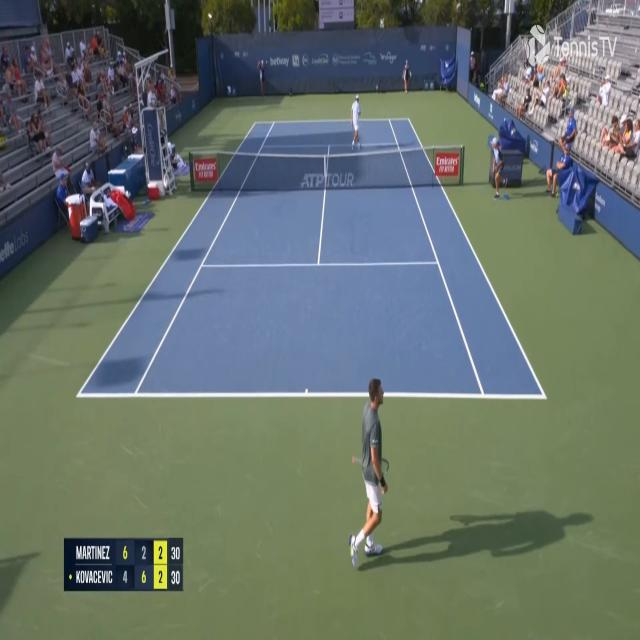tennis-player: (346, 371, 393, 571), (350, 92, 362, 152)
